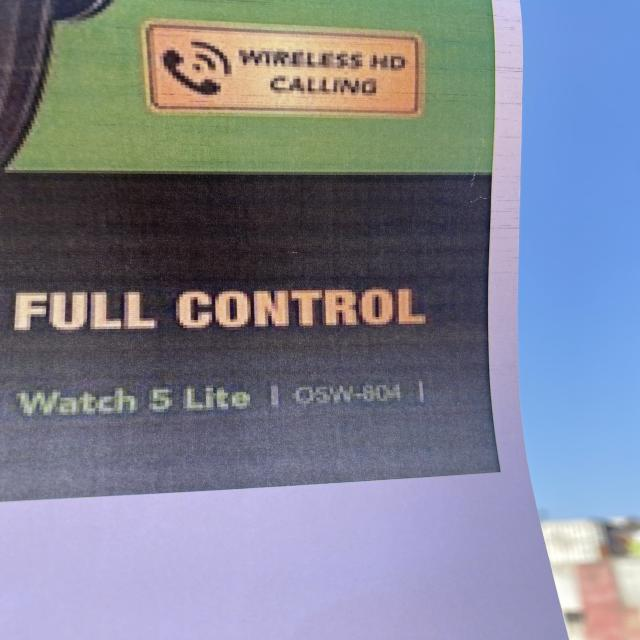Watch 5 Lite OSW-804: (15, 371, 444, 421)
